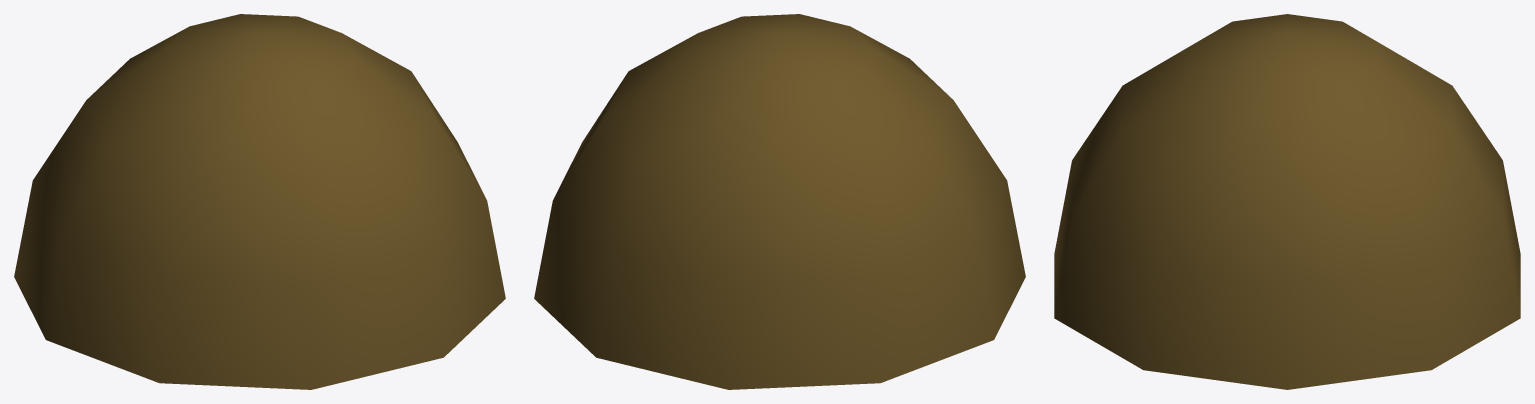
The model's file is SM_Prop_CoconutHalf.fbx.
The picture shows the model from 3 angles, left to right: view 1: azimuth 30°, elevation 25°; view 2: azimuth 150°, elevation 25°; view 3: azimuth 270°, elevation 25°; orthographic projection.
Visible parts, largest first — view 1: SM_Prop_CoconutHalf; view 2: SM_Prop_CoconutHalf; view 3: SM_Prop_CoconutHalf.
Boxes of the visible parts, box(x1,y1,x2,y2) form: SM_Prop_CoconutHalf: box(14, 14, 505, 389); SM_Prop_CoconutHalf: box(534, 14, 1025, 389); SM_Prop_CoconutHalf: box(1054, 14, 1520, 389).
Bounding box in the file's own units: 13.9 × 7.88 × 13.22.
